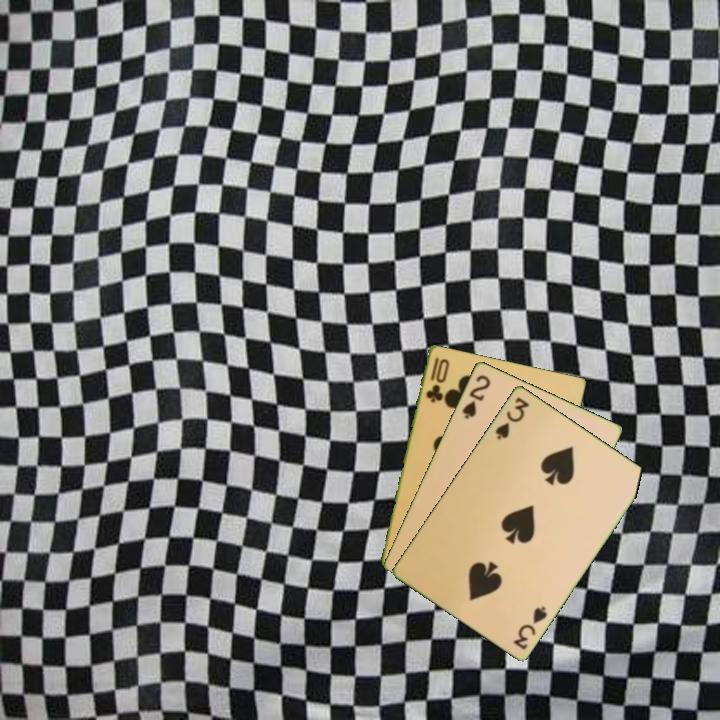10c: (422, 353, 452, 405)
2s: (458, 371, 493, 421)
3s: (510, 602, 550, 652), (492, 393, 532, 442)
